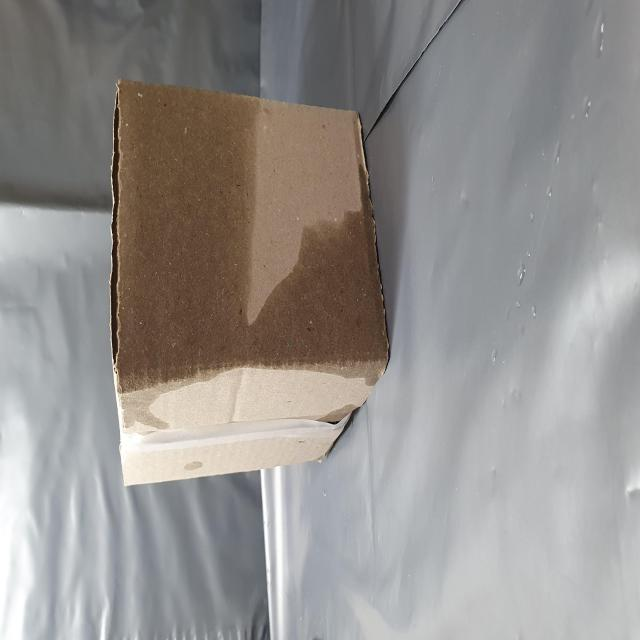wet: (122, 200, 308, 446), (140, 448, 249, 640)
